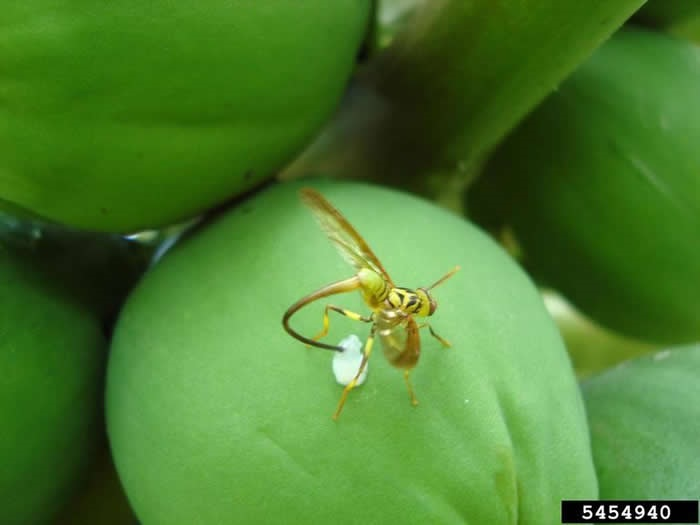Fruit fly: (286, 204, 448, 400)
